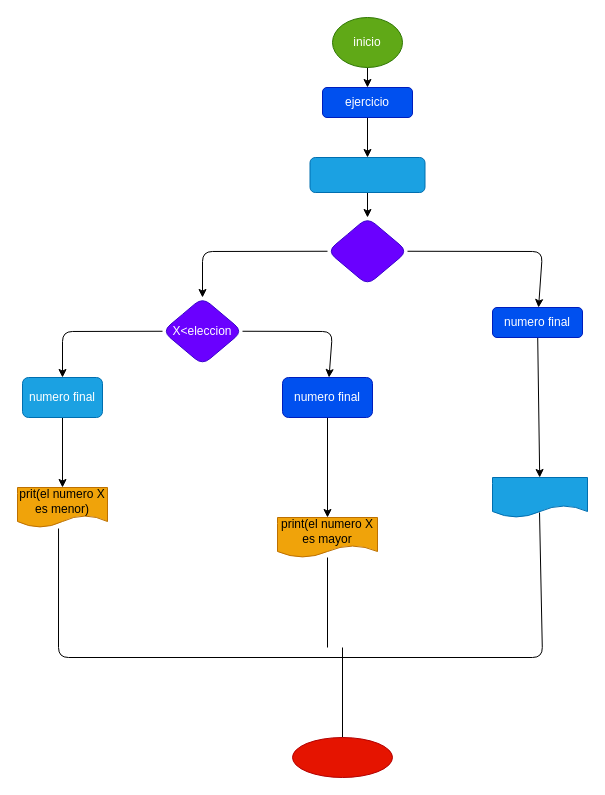
Some shapes in this 605 by 795 pixel diagram are drawn without their labels. Here are the shapes that lost their labels. From the top down, the box of each, then its label:
(309, 156, 425, 192): X = randit(1-30)
(326, 216, 408, 285): X == eleccion
(492, 476, 588, 518): print(acertaste)
(292, 736, 392, 778): fin
